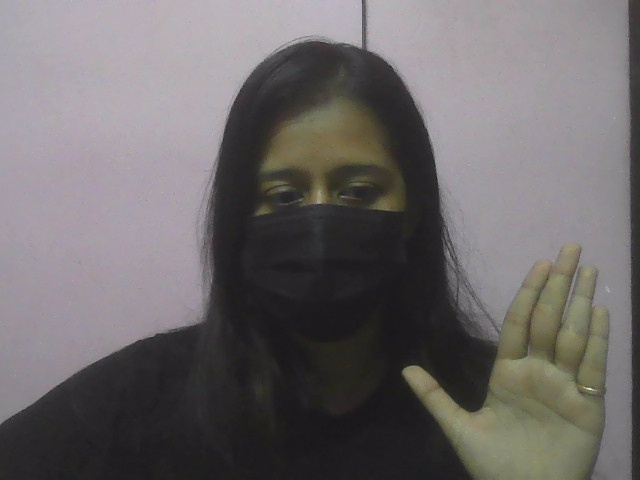Hello: (394, 208, 634, 477)
